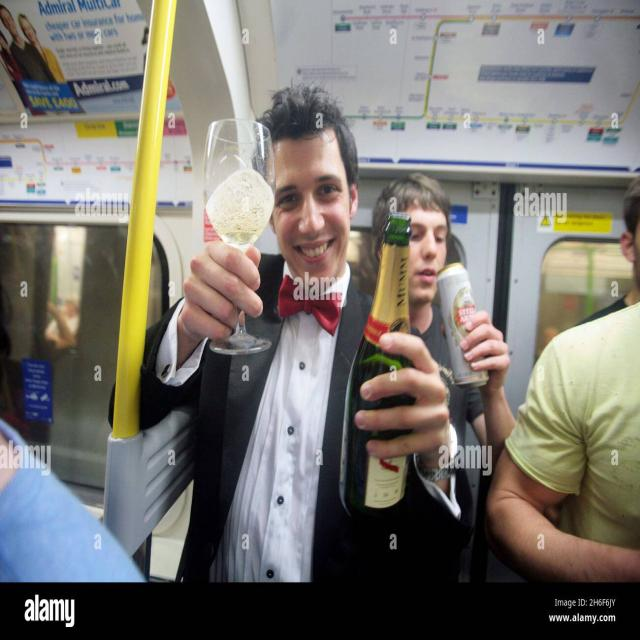Alcohol_Narcotics: (158, 80, 336, 401), (339, 194, 456, 535)
